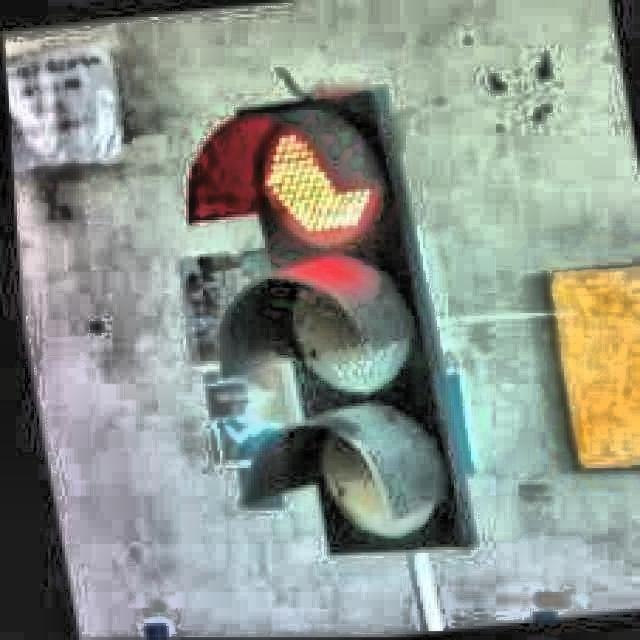red: (226, 94, 480, 547)
